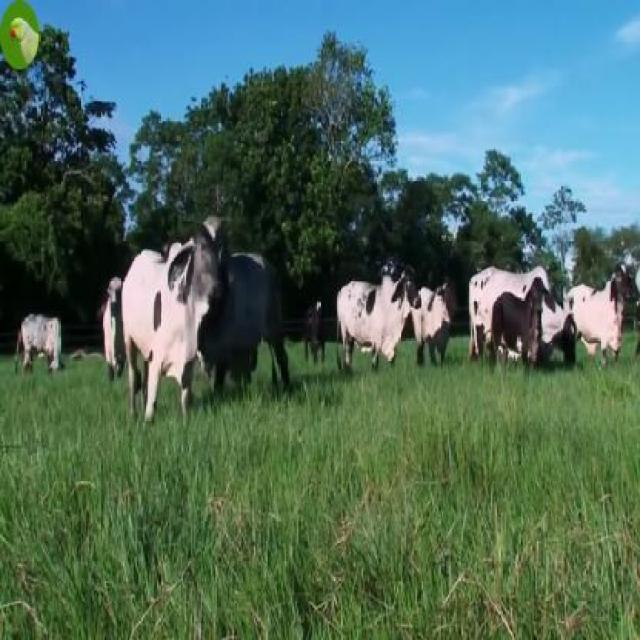Cow: (121, 212, 228, 422)
